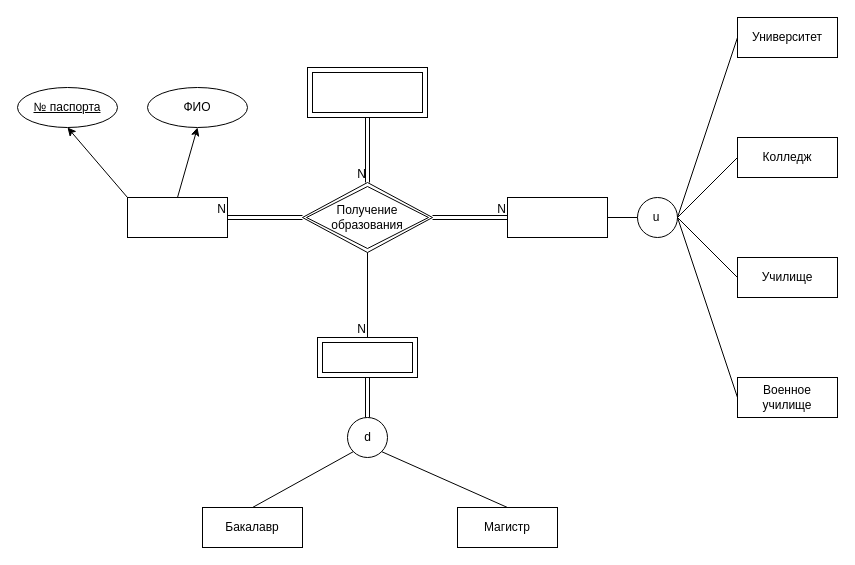
This 855x565 diagram has some shape labels left out. The shapes that lost their labels are listed below. From the top down, each one's centre as x and y in pixels, then its label:
[367,92]: Выписка из зачётной книжки
[177,217]: Студент
[557,217]: Учебное заведение
[367,357]: Степень
